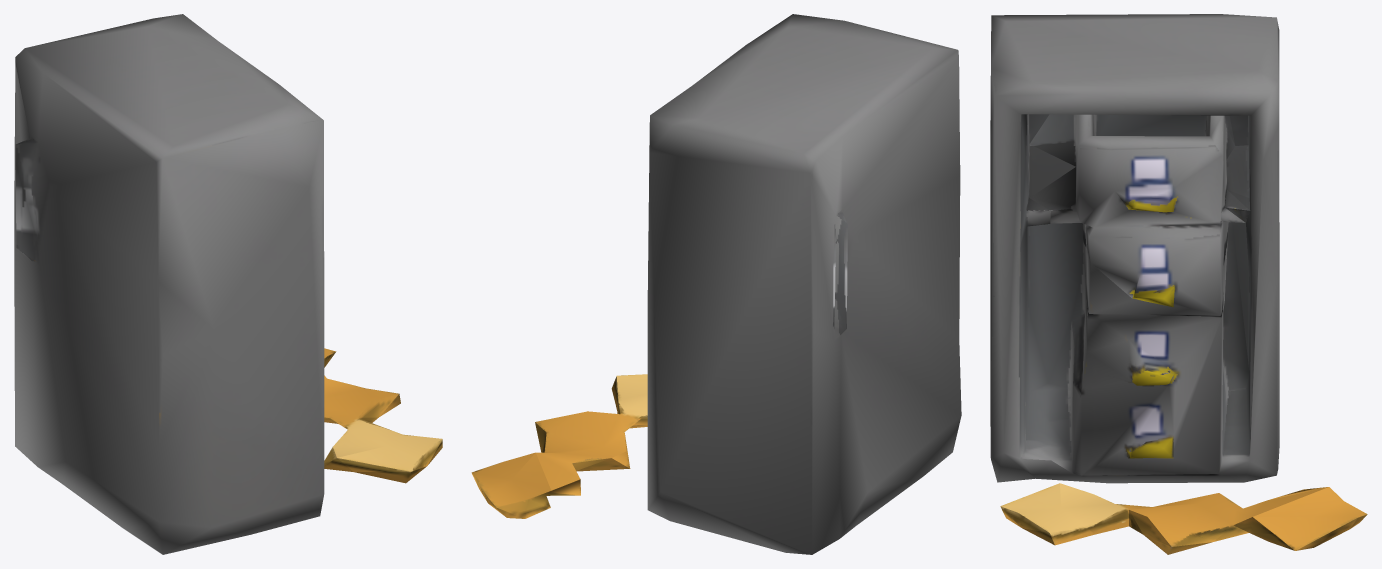
File: filing-cabinet-broken.glb
3 renders of one model, left to right at view 1: azimuth 30°, elevation 25°; view 2: azimuth 150°, elevation 25°; view 3: azimuth 270°, elevation 25°, orthographic. The views are drawn at different scales.
Visible parts, largest first — view 1: geometry_0.001; view 2: geometry_0.001; view 3: geometry_0.001.
Part boxes in pixels (x1,y1,x2,y2): geometry_0.001: (14, 14, 442, 554); geometry_0.001: (471, 14, 961, 554); geometry_0.001: (990, 14, 1367, 554).
Bounding box in the file's own units: 0.9032 × 1 × 0.8679.
Materials: 1 (1 with a texture image).
